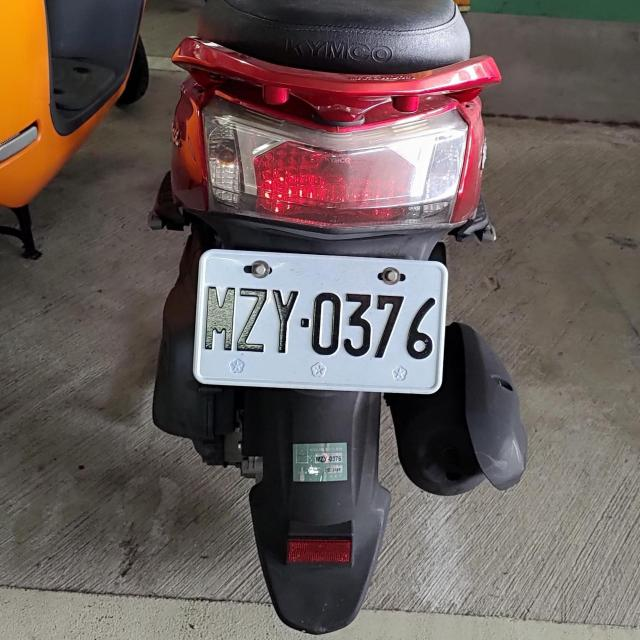W: (194, 245, 448, 394)
